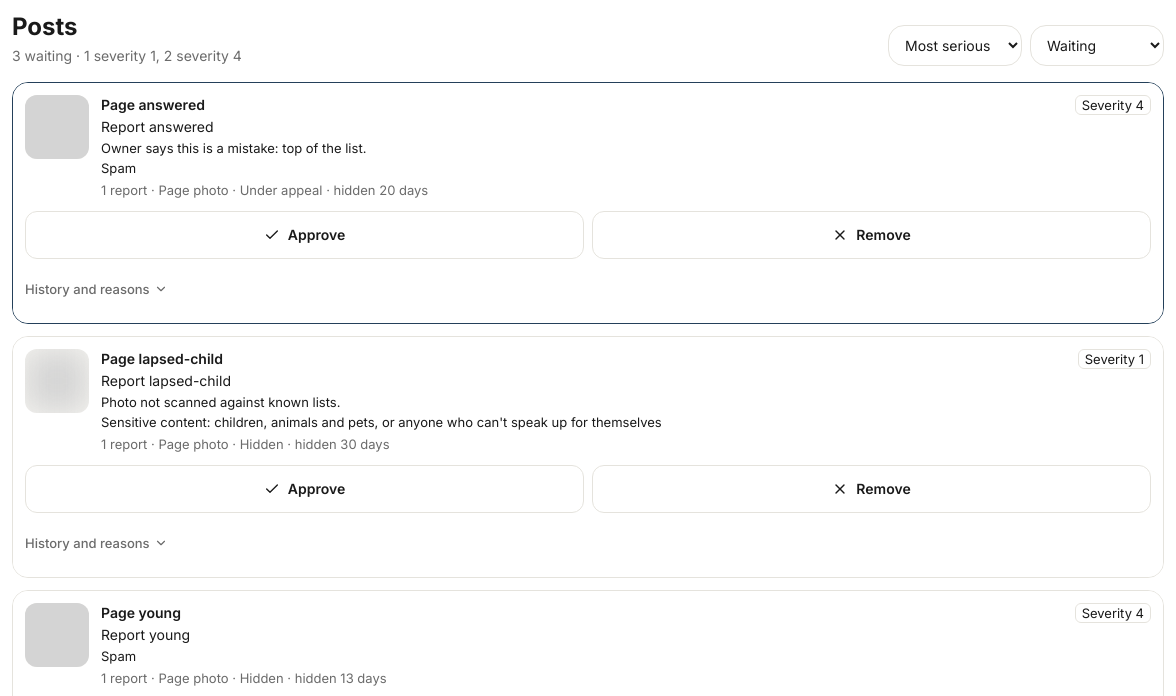
Test: F102 criterion 4 — a lapsed unanswered hide leaves the batch unless it is severity 1 › after 14 days with no answer a severity 2 to 4 row leaves the batch and stays hidden; severity 1, an answered row and a younger one stay
The width and height of the screenshot is (1176, 696).
Expected: the text with test id "review-waiting" shows "3 waiting", [12,47,72,64]
Select "All" in the dropdown with test id "review-filter" at (1097, 46), box [1030,25,1164,66]
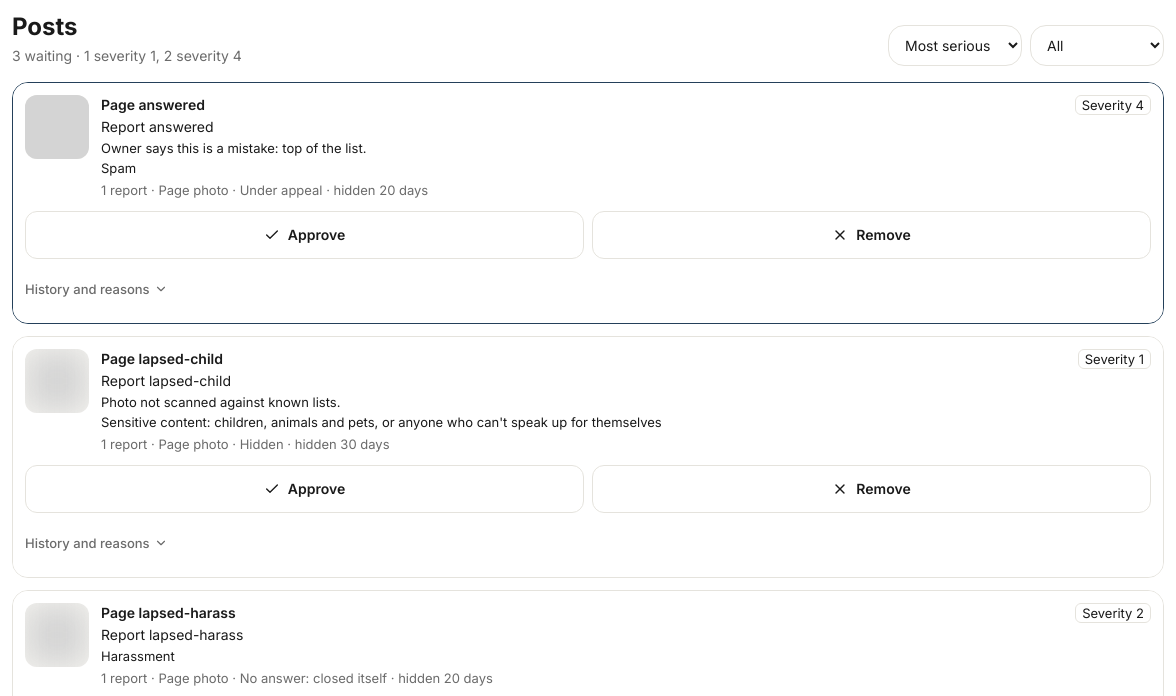
Expected: the number of list items with test id "review-row" is 5
